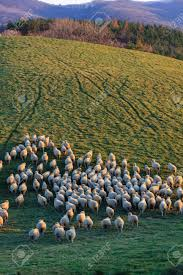sheep: (36, 218, 47, 235), (54, 225, 65, 242), (127, 212, 139, 227), (159, 198, 168, 217), (66, 225, 76, 242), (137, 198, 147, 215), (53, 197, 64, 212), (76, 210, 85, 228), (100, 217, 112, 230), (36, 193, 47, 207), (104, 196, 118, 207), (115, 215, 124, 232), (122, 197, 132, 212), (84, 215, 93, 231), (14, 194, 25, 207), (88, 198, 99, 211), (52, 145, 61, 160), (174, 197, 183, 212), (29, 228, 39, 241), (92, 191, 102, 204), (32, 179, 41, 193), (152, 159, 161, 173), (17, 160, 27, 172), (108, 187, 118, 199), (167, 173, 175, 187), (67, 196, 78, 206), (19, 181, 27, 194), (106, 205, 115, 216), (55, 192, 66, 201), (31, 150, 38, 164), (19, 147, 27, 159), (75, 156, 83, 168), (168, 162, 176, 174), (34, 171, 43, 181), (42, 152, 50, 163), (133, 163, 140, 175), (79, 174, 88, 183), (64, 155, 72, 165), (6, 173, 14, 183), (108, 152, 116, 162), (176, 185, 182, 198), (49, 158, 56, 169), (144, 164, 151, 175), (85, 150, 93, 159), (83, 158, 91, 167), (94, 162, 101, 172), (5, 152, 11, 163), (48, 172, 54, 183), (38, 141, 45, 150), (121, 159, 127, 168)
